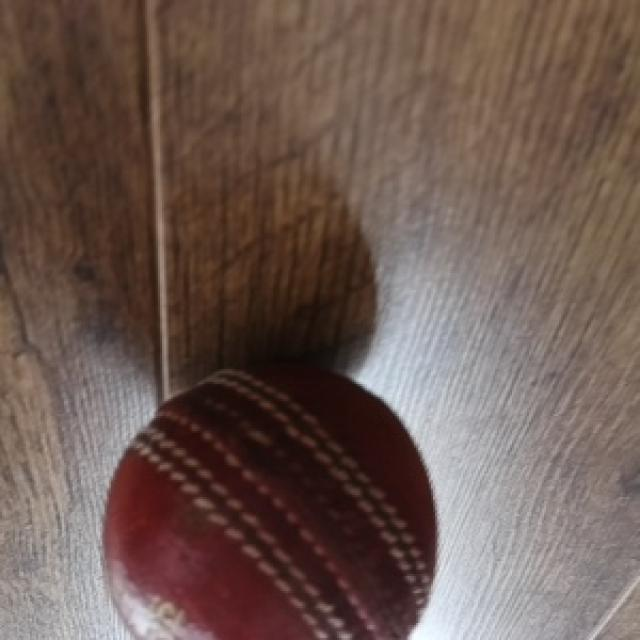ball: (100, 365, 437, 640)
